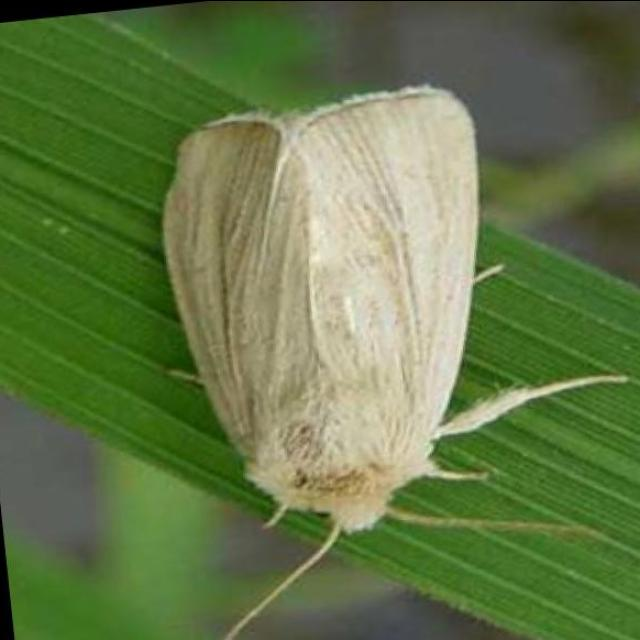stem borer: (164, 85, 640, 640)
